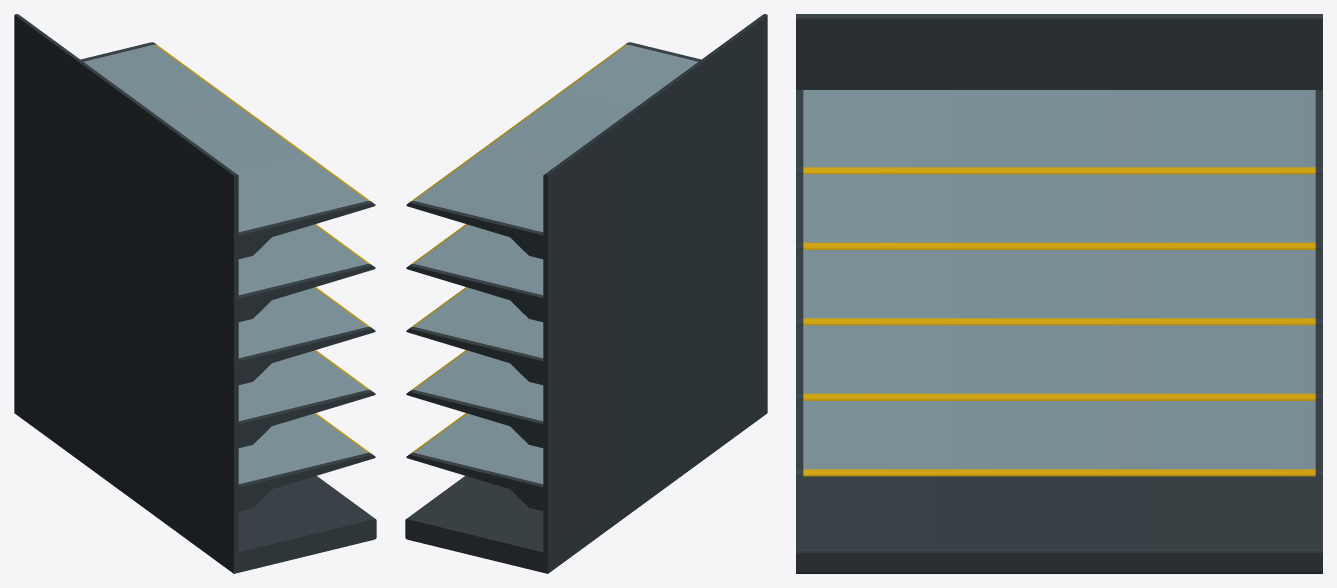
File: Small_Shelf_5row_col.glb
3 renders of one model, left to right at view 1: azimuth 30°, elevation 25°; view 2: azimuth 150°, elevation 25°; view 3: azimuth 270°, elevation 25°, orthographic. The views are drawn at different scales.
Visible parts, largest first — view 1: Small_Shelf_5row_col; view 2: Small_Shelf_5row_col; view 3: Small_Shelf_5row_col.
Part boxes in pixels (x1,y1,x2,y2): Small_Shelf_5row_col: (14,14,376,573); Small_Shelf_5row_col: (405,14,767,573); Small_Shelf_5row_col: (796,14,1322,573).
Bounding box in the file's own units: 0.75 × 2 × 2.
1 material, 1 textured.
